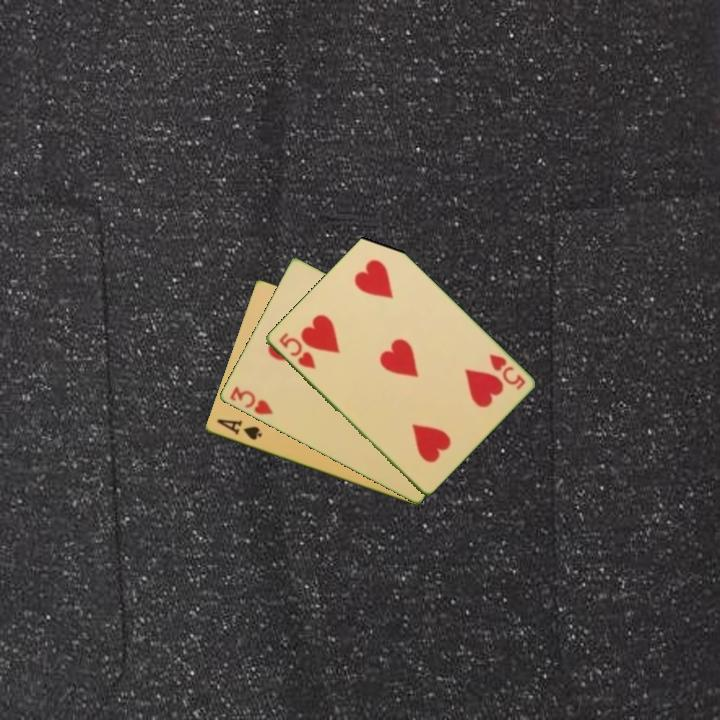3h: (226, 383, 276, 418)
5h: (275, 329, 318, 372), (485, 350, 528, 393)
As: (213, 415, 264, 443)
